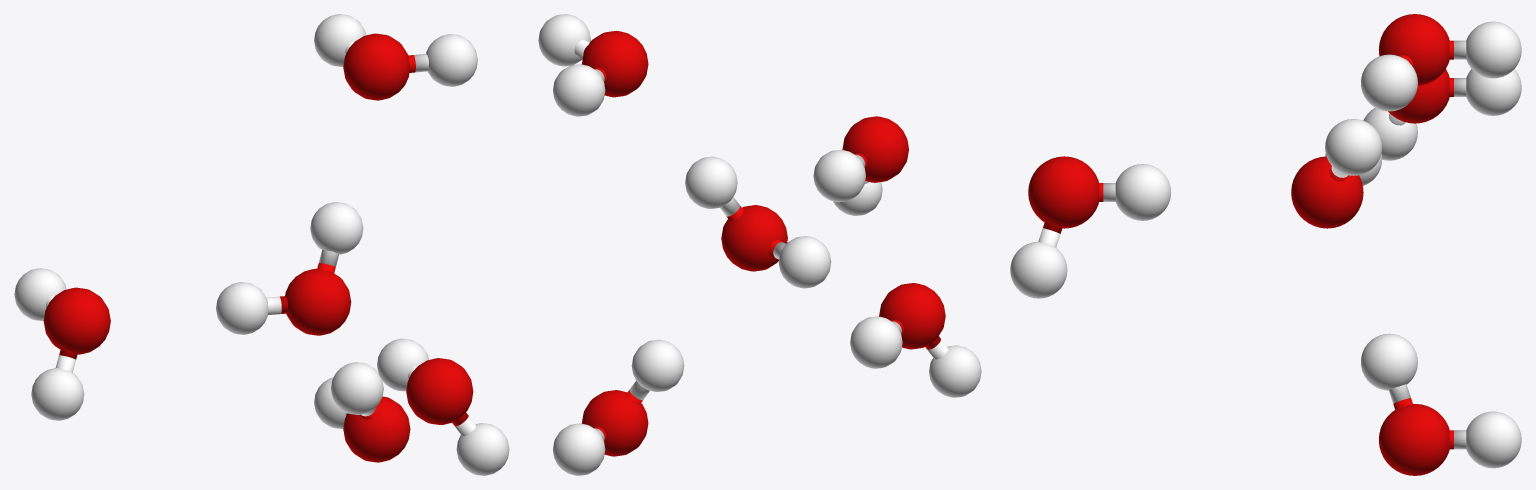
Rendered from 3D_Water.fbx.
3 renders of one model, left to right at view 1: azimuth 30°, elevation 25°; view 2: azimuth 150°, elevation 25°; view 3: azimuth 270°, elevation 25°, orthographic. The views are drawn at different scales.
Visible parts, largest first — view 1: Shape_IndexedFaceSet; view 2: Shape_IndexedFaceSet; view 3: Shape_IndexedFaceSet.
Boxes of the visible parts, x1=… form: Shape_IndexedFaceSet: x1=14, y1=14, x2=509, y2=475; Shape_IndexedFaceSet: x1=538, y1=14, x2=981, y2=475; Shape_IndexedFaceSet: x1=1010, y1=14, x2=1521, y2=475.
Size of the model in its own units: 5738 by 5264 by 5369.
